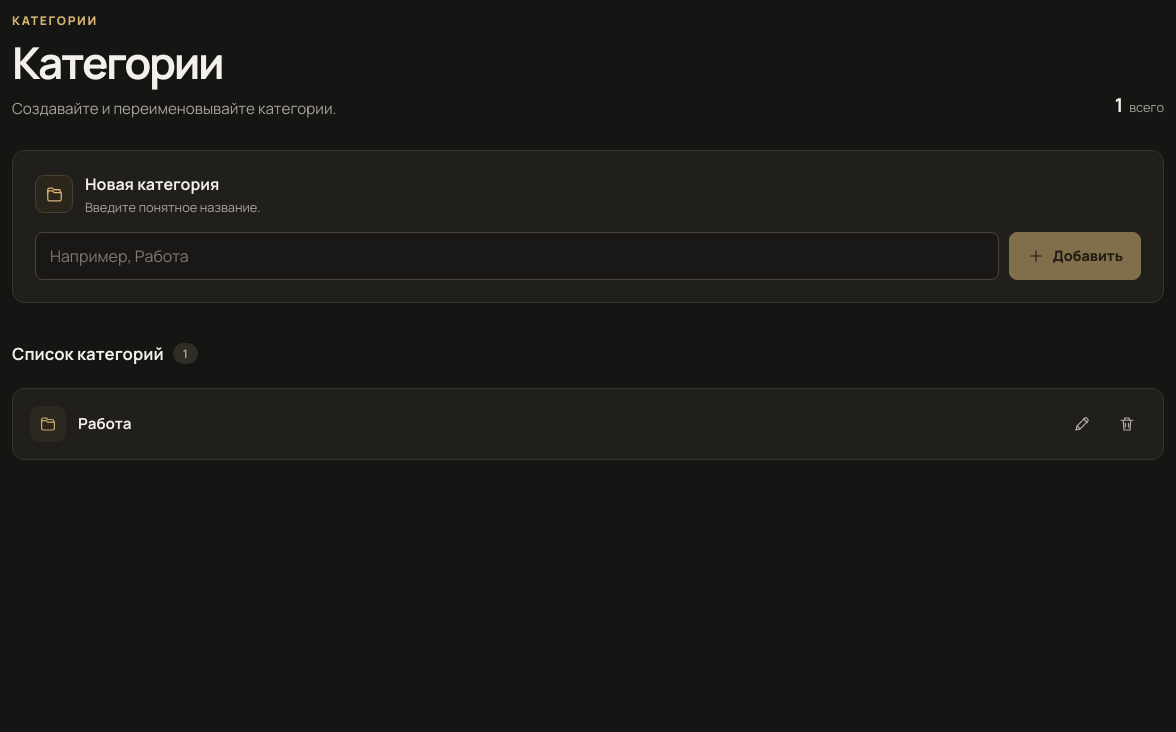
Categories › keeps failed edits and cancels them without altering the saved category
Expected: the heading "Работа" is shown, [78,413,131,434]
Click the button named "Изменить категорию: Работа" at [1082, 424], box [1063,405,1101,443]
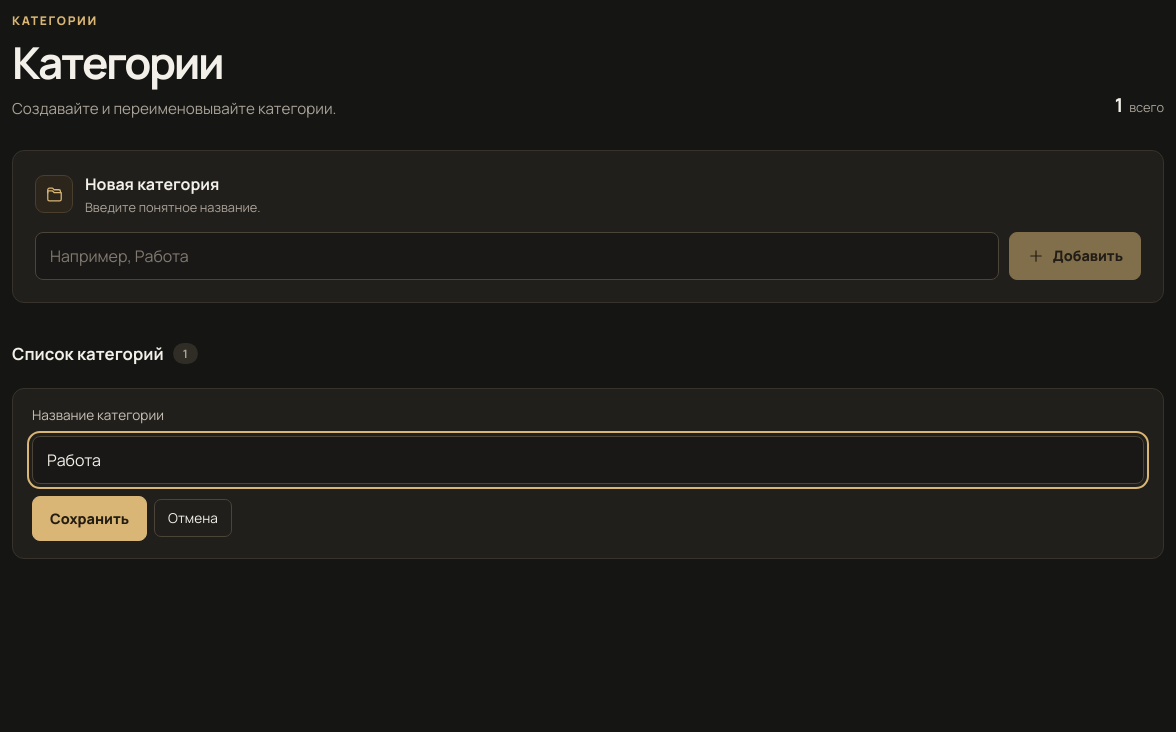
Replace the text in the field labelled "Название категории" with "Черновик" at [588, 460], box [32,436,1144,484]
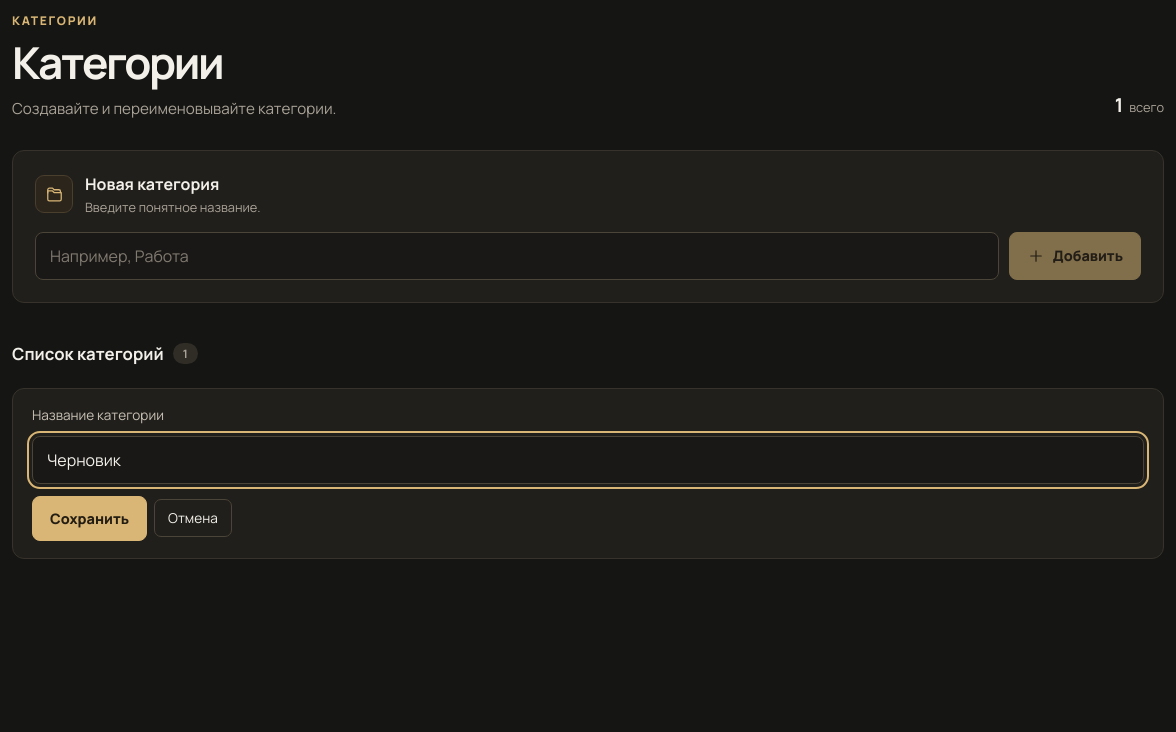
Click the button "Сохранить" at [90, 518], box [32,496,147,541]
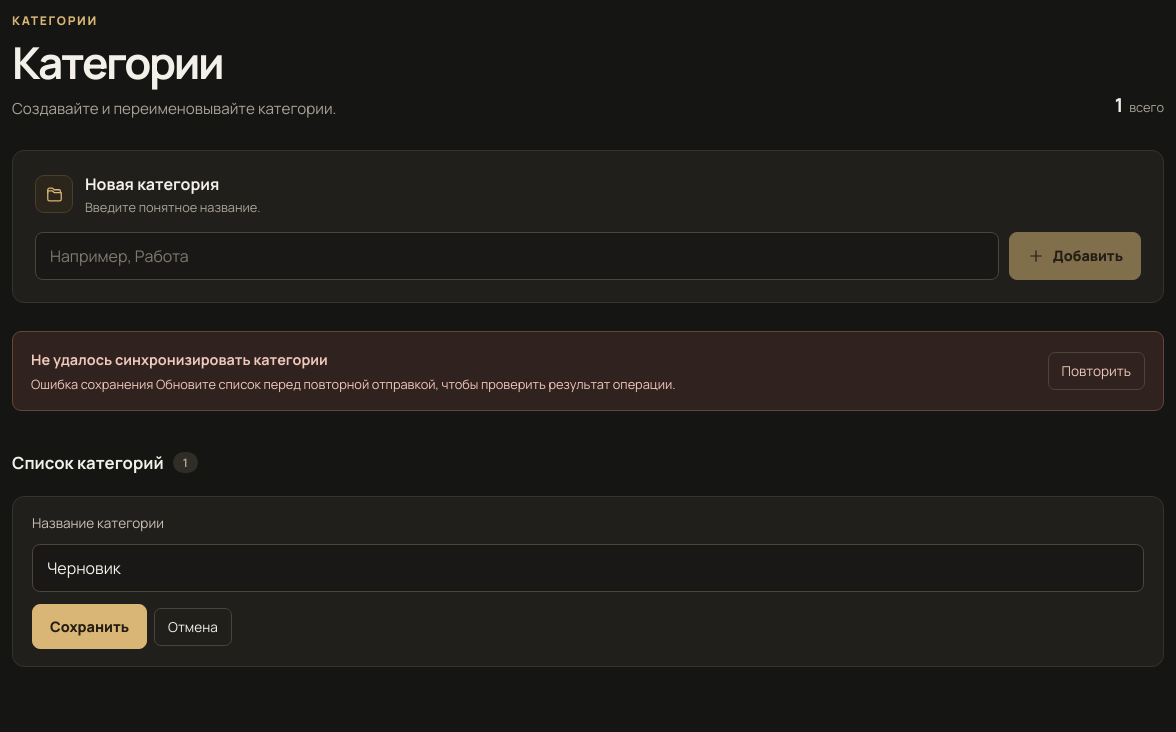
Result: the message is shown at [12,331,1164,411]
Click the button "Отмена" at [193, 627], box [154,608,232,646]
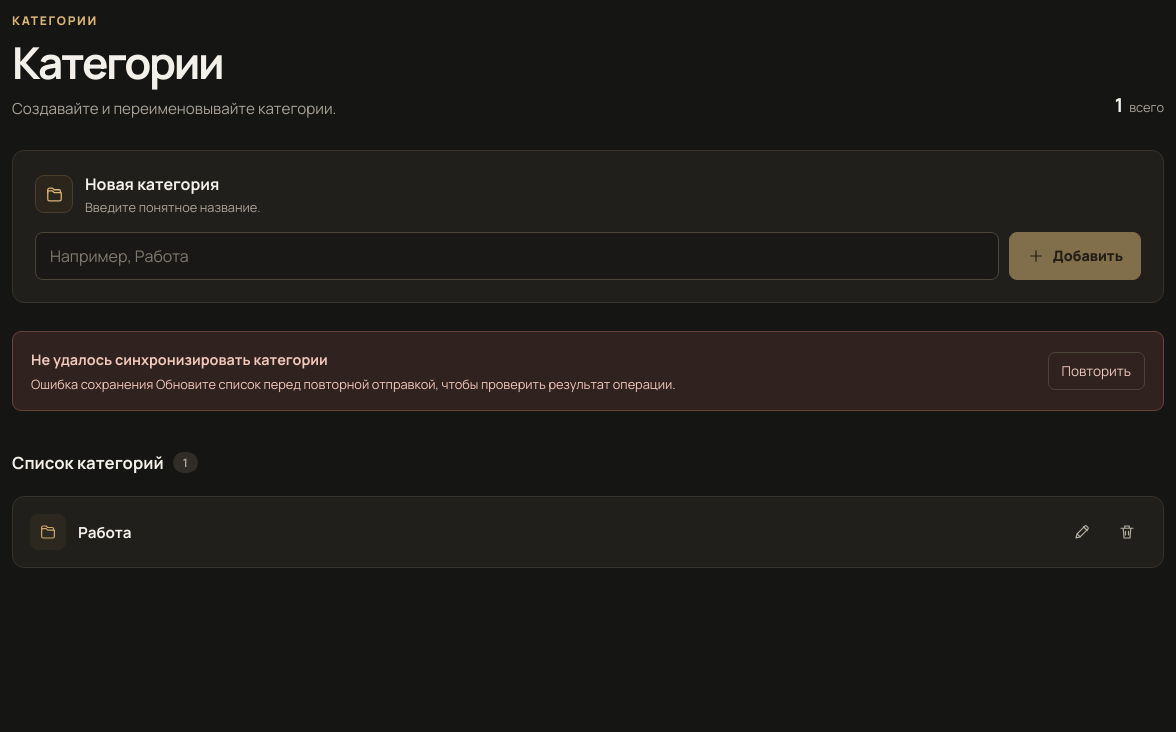
Expected: the text "Черновик" is not shown
Result: the heading "Работа" is shown at [78,522,131,543]
